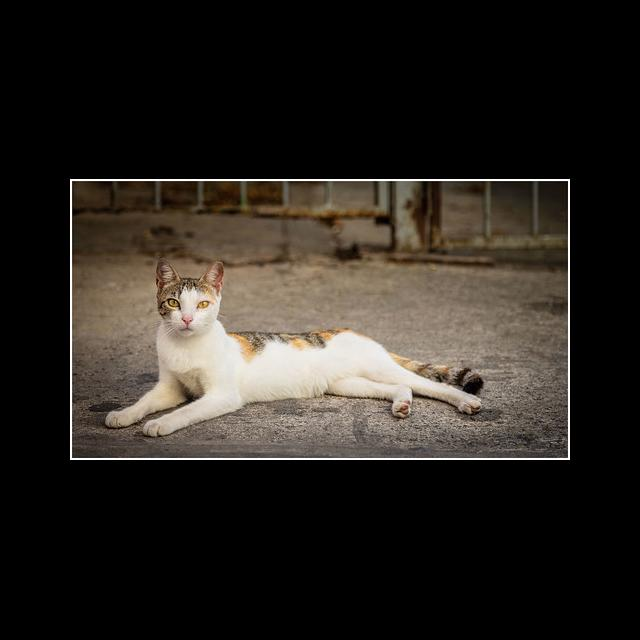animals: (105, 258, 484, 437)
